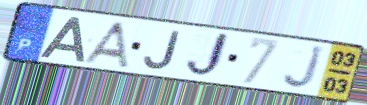7: (240, 36, 284, 87)
A: (78, 20, 131, 70), (37, 15, 87, 64)
J: (183, 31, 233, 80), (282, 44, 327, 91), (142, 29, 183, 71)
